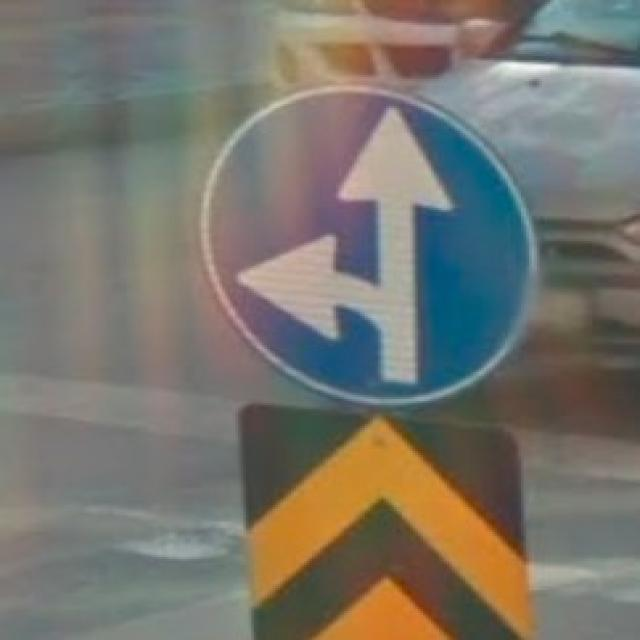Straight or Left: (203, 83, 542, 403)
